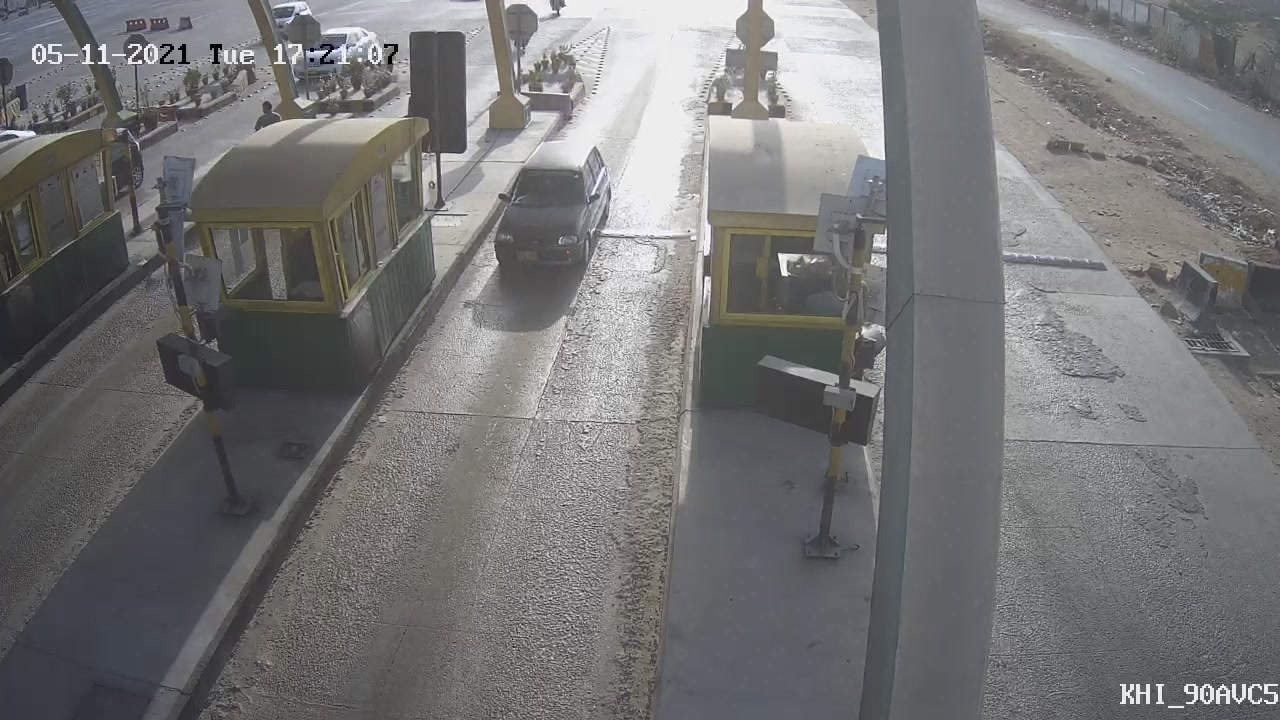F1: (464, 126, 629, 296)
